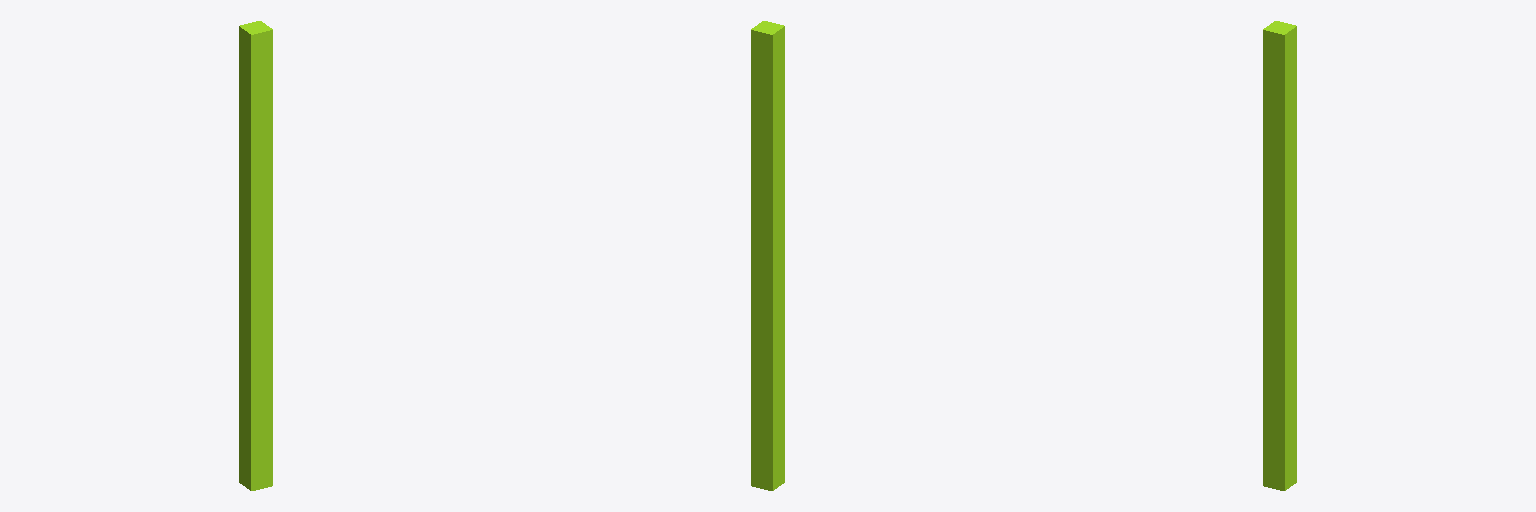
URDF robot description (box):
<?xml version='1.0' encoding='UTF-8'?>
<robot name="box">
  <link name="base_link">
    <inertial>
      <origin xyz="0.0 0.0 0.0" rpy="0.0 -0.0 0.0"/>
      <mass value="1.0"/>
      <inertia ixx="1.0" ixy="0.0" ixz="0.0" iyy="1.0" iyz="0.0" izz="1.0"/>
    </inertial>
    <visual name="base_link_visual">
      <geometry>
        <box size="0.15 0.15 3.0"/>
      </geometry>
      <origin xyz="0 0 0" rpy="0 0 0"/>
      <material name="object_color">
        <color rgba="0.7 0.95 0.2 1"/>
      </material>
    </visual>
    <collision name="base_link_collision">
      <geometry>
        <box size="0.15 0.15 3.0"/>
      </geometry>
      <origin xyz="0 0 0" rpy="0 0 0"/>
    </collision>
  </link>
</robot> 

--- Render facts (derived) ---
3 views of the same robot in one strip: view 1: azimuth 30°, elevation 25°; view 2: azimuth 150°, elevation 25°; view 3: azimuth 330°, elevation 25° (orthographic).
Robot: box — 1 links, 0 joints (none); root link base_link; default pose: every joint at zero.
Visible links, largest first — view 1: base_link; view 2: base_link; view 3: base_link.
Boxes of the visible links, <box> form: base_link: <box>239,21,272,490</box>; base_link: <box>751,21,784,490</box>; base_link: <box>1263,21,1296,490</box>.
Bounding box of the posed robot: 0.15 × 0.15 × 3 m (x, y, z).
Geometry: primitives only (box / cylinder / sphere), no mesh files.
